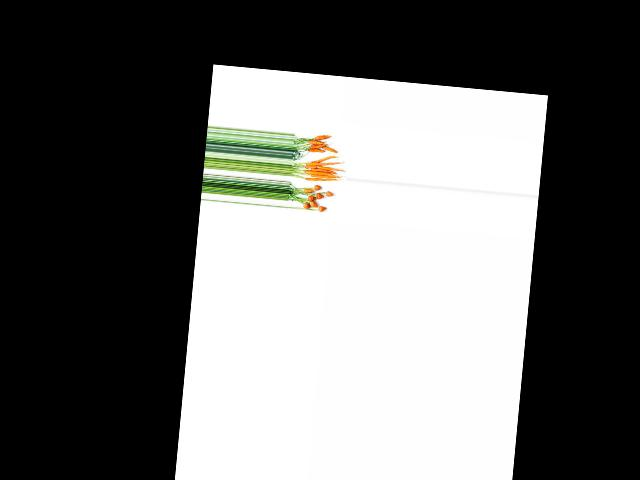carrot: (318, 203, 328, 212)
